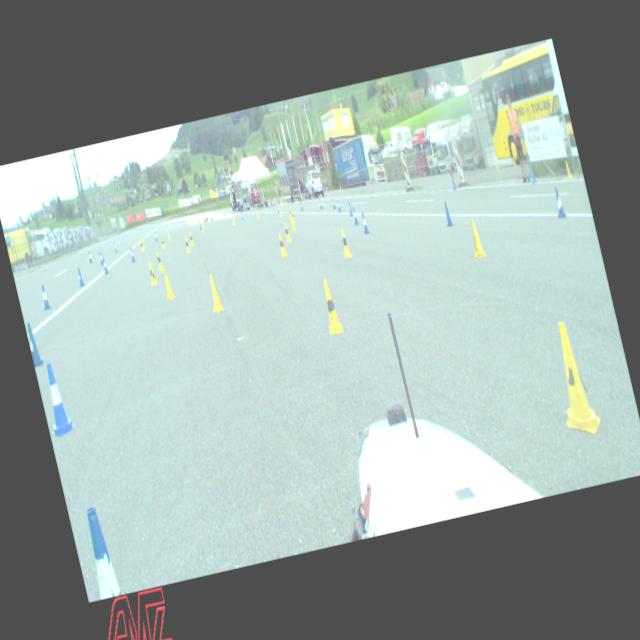blue_cone: (80, 504, 121, 600), (37, 361, 76, 437), (24, 322, 44, 366), (551, 186, 566, 218), (441, 200, 453, 226), (39, 284, 50, 310), (360, 212, 370, 235), (76, 266, 85, 286), (351, 206, 359, 225), (346, 201, 354, 216), (129, 246, 136, 262), (102, 257, 108, 273), (336, 198, 342, 212), (98, 251, 104, 265), (112, 240, 118, 252), (330, 198, 336, 208), (88, 250, 92, 263), (153, 231, 158, 241), (318, 198, 323, 208), (240, 211, 244, 220), (298, 201, 302, 210)
yellow_cone: (544, 317, 602, 437), (317, 277, 343, 334), (466, 218, 486, 259), (204, 272, 224, 312), (160, 268, 176, 299), (338, 228, 352, 258), (146, 260, 158, 285), (276, 232, 287, 256), (154, 250, 164, 270), (282, 222, 292, 242), (182, 236, 190, 253), (288, 216, 296, 231), (188, 232, 195, 246), (160, 236, 166, 248), (290, 209, 295, 222), (139, 240, 144, 251), (288, 207, 292, 218), (278, 206, 282, 216), (256, 210, 260, 220), (494, 161, 498, 171), (141, 238, 145, 248), (232, 216, 236, 224), (167, 230, 170, 240)
